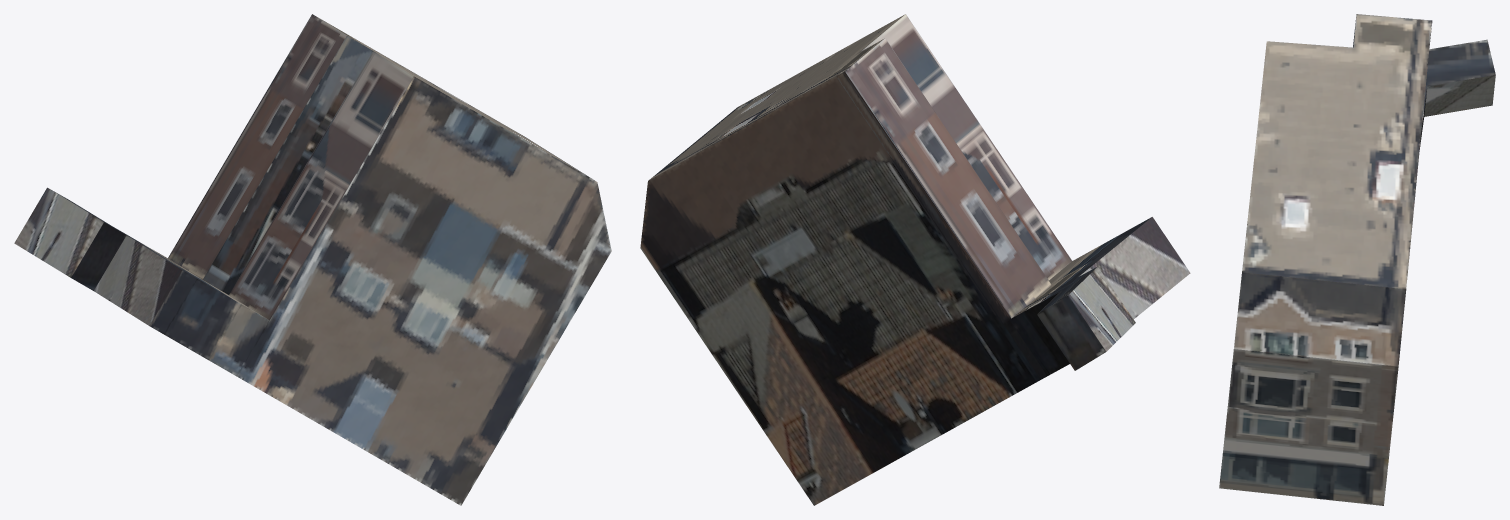
3 views of the same model, side by side, from view 1: azimuth 30°, elevation 25°; view 2: azimuth 150°, elevation 25°; view 3: azimuth 270°, elevation 25° (orthographic). The views are drawn at different scales.
Visible parts, largest first — view 1: BAG_0599100000700986 (×5); view 2: BAG_0599100000700986 (×5); view 3: BAG_0599100000700986 (×3).
Part boxes in pixels (<box>): BAG_0599100000700986 (×5): <box>14,14,611,505</box>; BAG_0599100000700986 (×5): <box>640,14,1190,505</box>; BAG_0599100000700986 (×3): <box>1219,14,1495,505</box>.
Bounding box in the file's own units: 21.54 × 19.05 × 10.29.
Materials: 1 (1 with a texture image).
